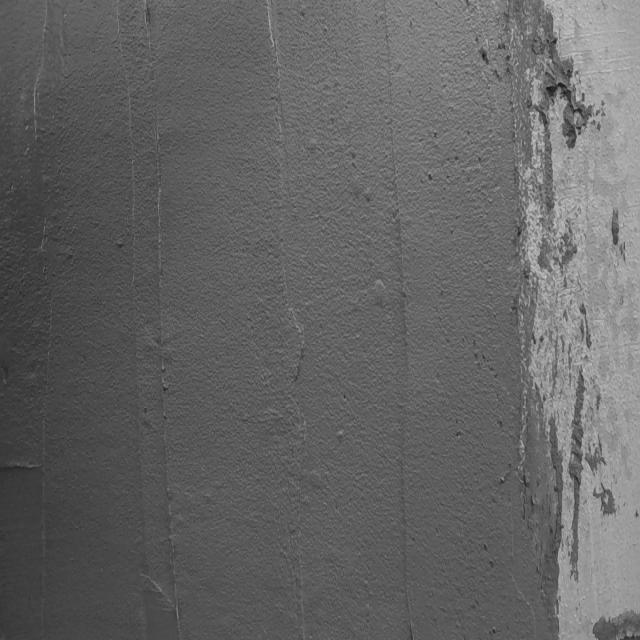trowels marks: (124, 13, 177, 637), (388, 21, 416, 626)
